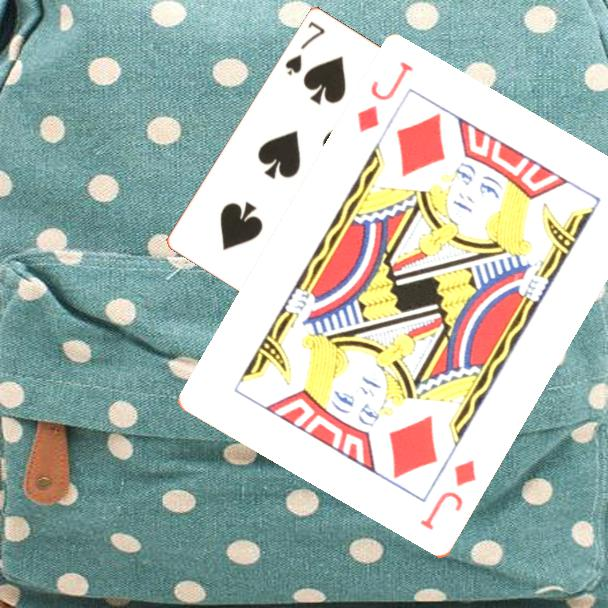d11: (353, 58, 417, 136), (416, 457, 480, 534)
s07: (281, 17, 328, 78)
